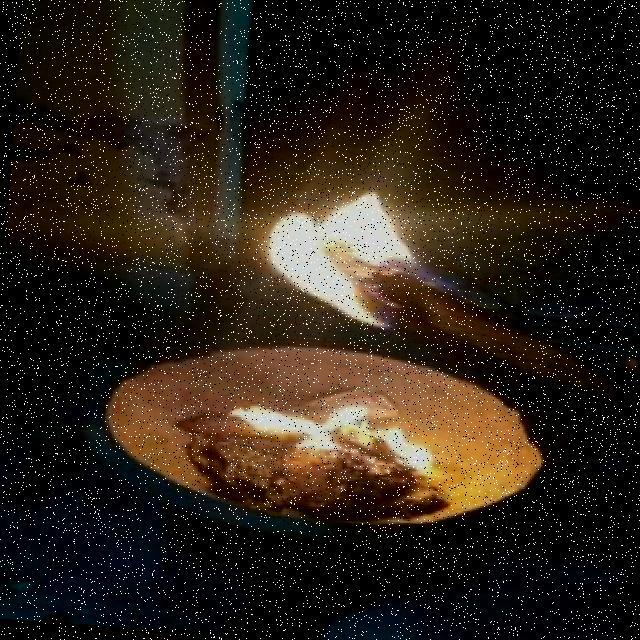Fire: (260, 158, 461, 337), (232, 395, 444, 475)
